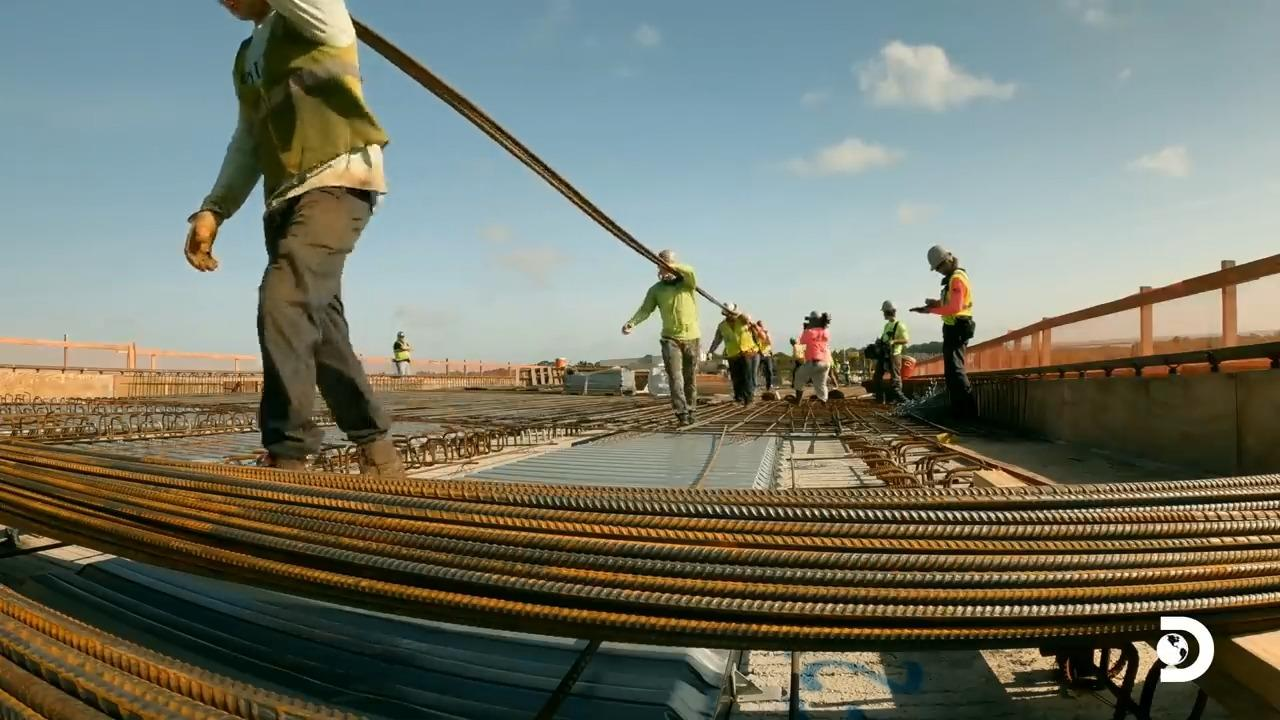Gloves: (184, 206, 226, 270)
Helmet: (653, 243, 681, 270), (927, 244, 949, 270), (720, 301, 739, 317), (881, 299, 896, 312), (809, 312, 823, 320)
Person: (183, 0, 406, 479), (621, 249, 702, 426), (908, 244, 977, 419), (717, 302, 758, 408), (870, 299, 909, 405), (795, 309, 836, 404), (392, 330, 411, 376)
Safety Boot: (357, 439, 411, 491)
Safety Vest: (239, 48, 362, 182), (942, 273, 971, 325), (726, 321, 752, 354), (883, 325, 900, 352)
no-vest: (661, 290, 695, 339), (805, 331, 829, 362)
